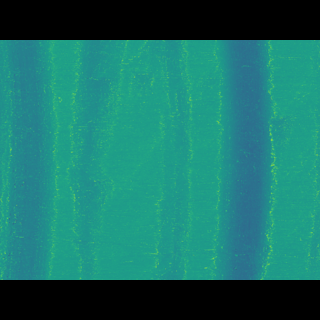Loch: (205, 68, 277, 250), (65, 69, 126, 250), (0, 69, 59, 250), (152, 70, 189, 251)
